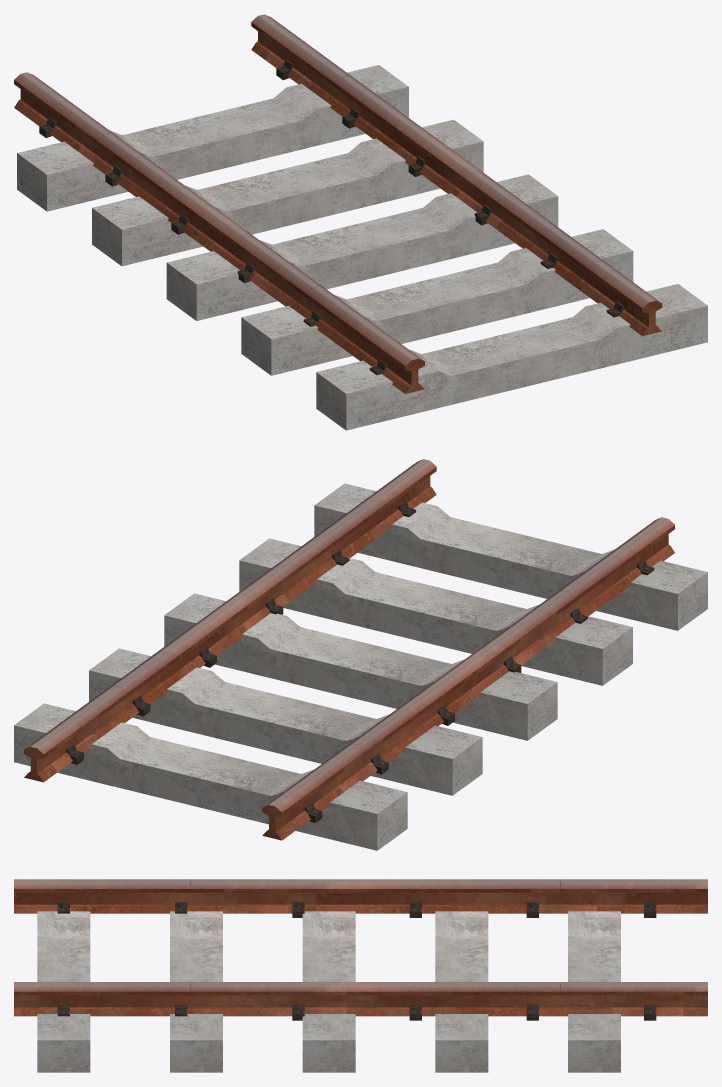
Rendered from rail_track_normal_tracks.obj.
3 views of the same model, one above another, from view 1: azimuth 30°, elevation 25°; view 2: azimuth 150°, elevation 25°; view 3: azimuth 270°, elevation 25° (orthographic). The views are drawn at different scales.
Parts seen in each view (by area): view 1: RailTrackLogs, RailTrackTrack; view 2: RailTrackLogs, RailTrackTrack; view 3: RailTrackTrack, RailTrackLogs.
Boxes of the visible parts, x1,y1,x2,y2 form: RailTrackLogs: (17, 65, 707, 430); RailTrackTrack: (14, 14, 662, 393); RailTrackLogs: (14, 483, 707, 850); RailTrackTrack: (24, 459, 674, 840); RailTrackTrack: (14, 879, 707, 1020); RailTrackLogs: (37, 911, 620, 1072).
Size of the model in its own units: 1.91 by 0.3392 by 3.58.
